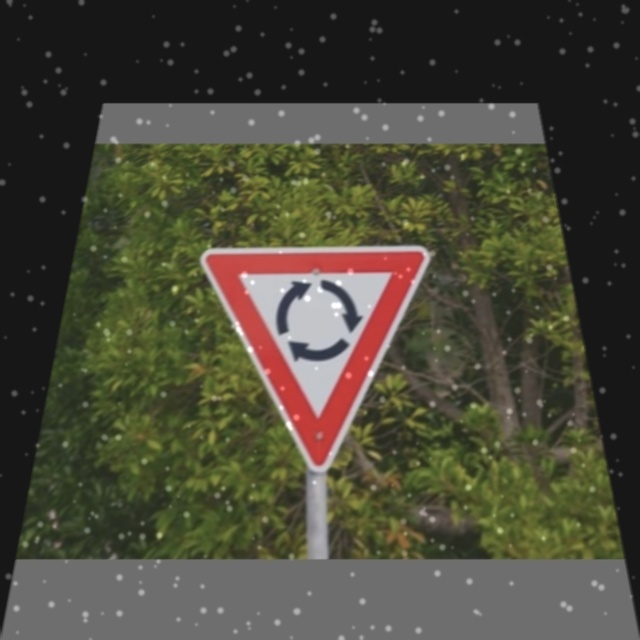Round_About: (185, 238, 445, 468)
